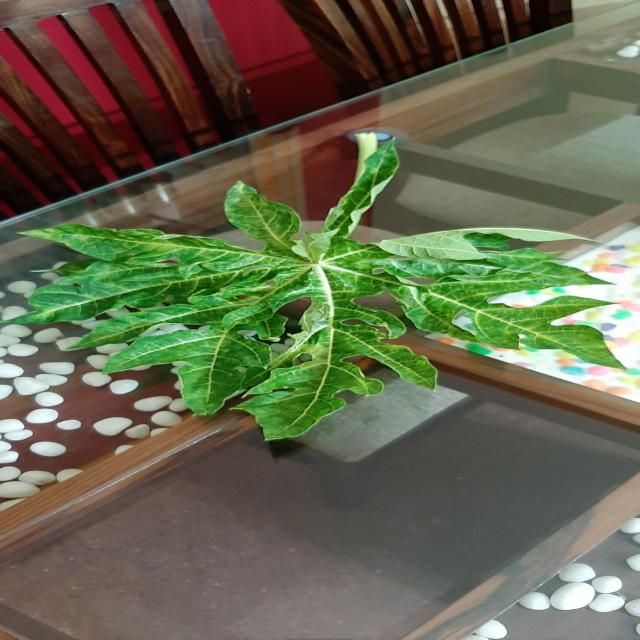papaya: (8, 149, 618, 439)
